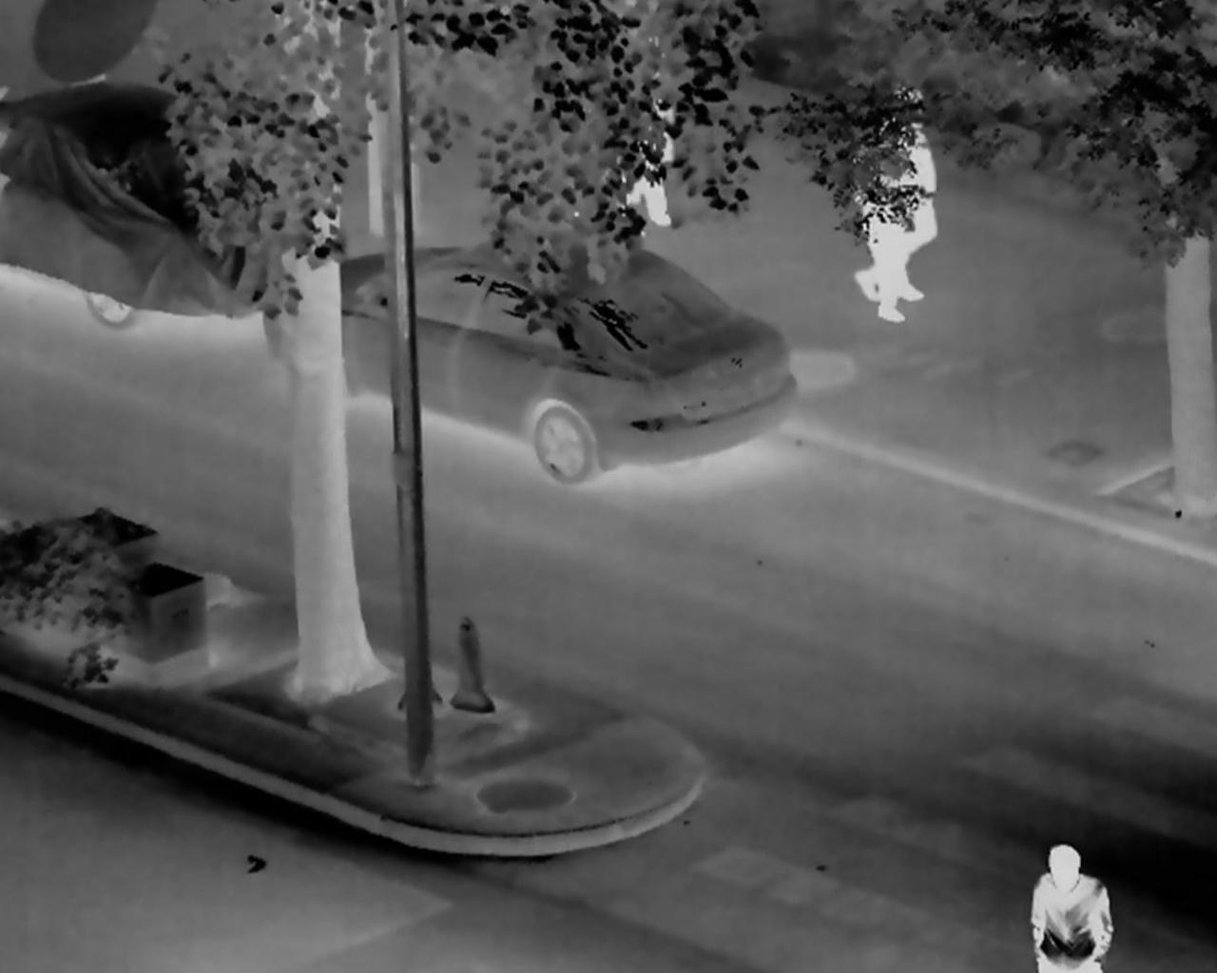person: (884, 85, 937, 305), (853, 127, 912, 322), (1030, 841, 1115, 973)
